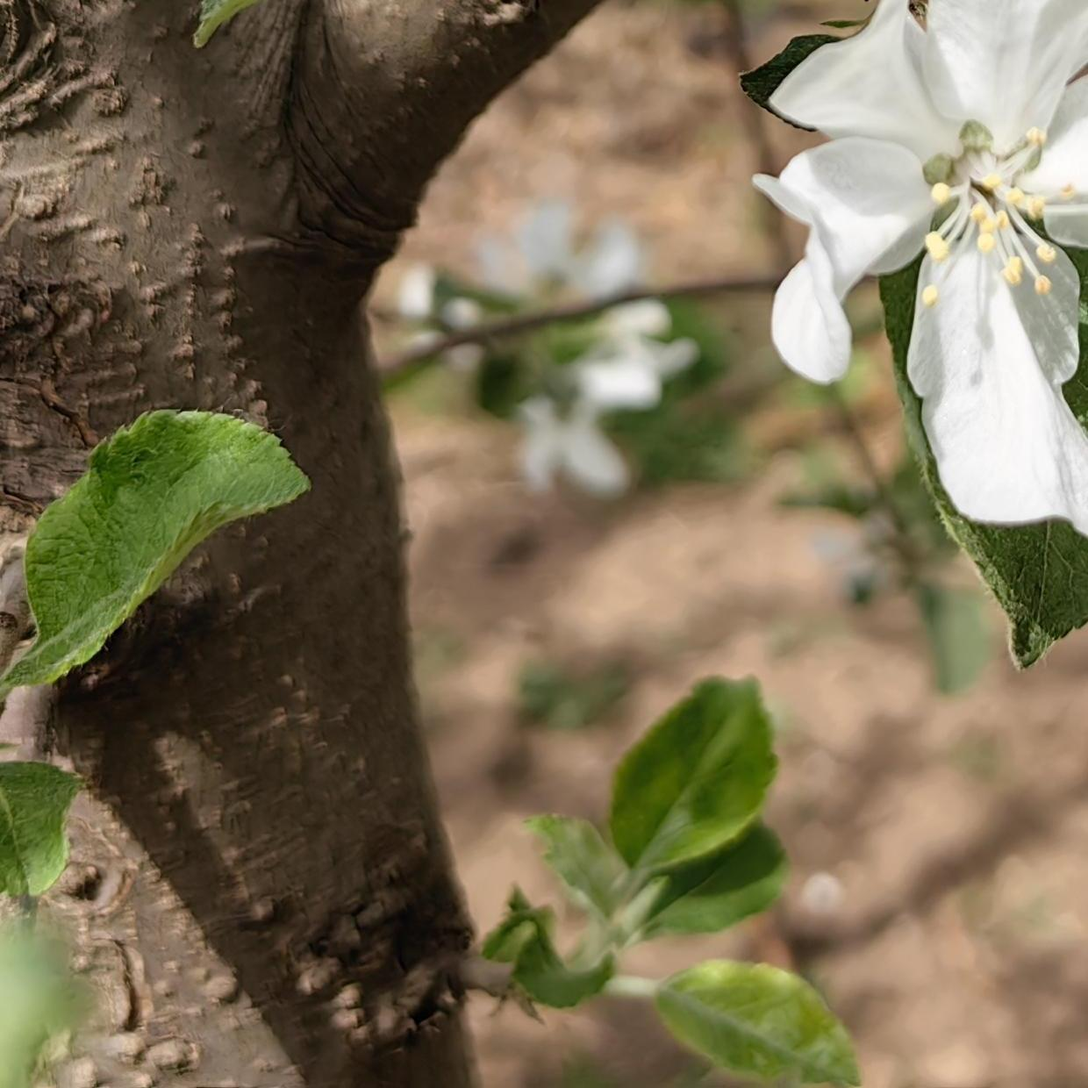apple_flower: (758, 0, 1088, 536)
